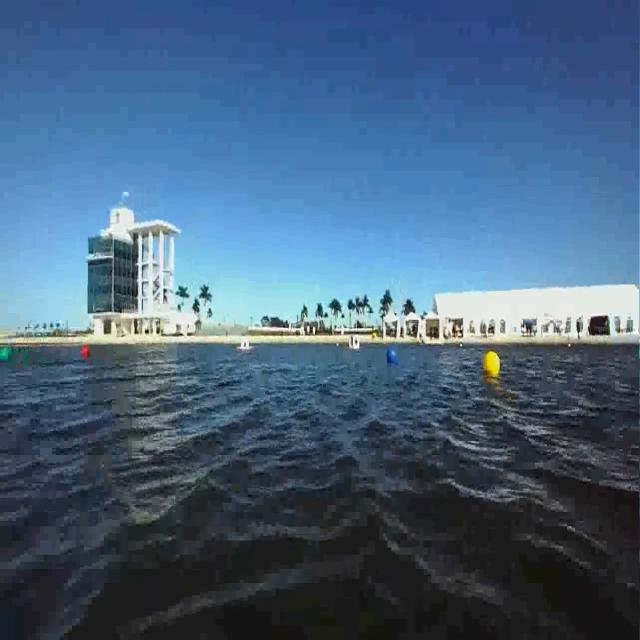blue-buoy: (384, 345, 402, 367)
yellow-buoy: (482, 345, 504, 383)
